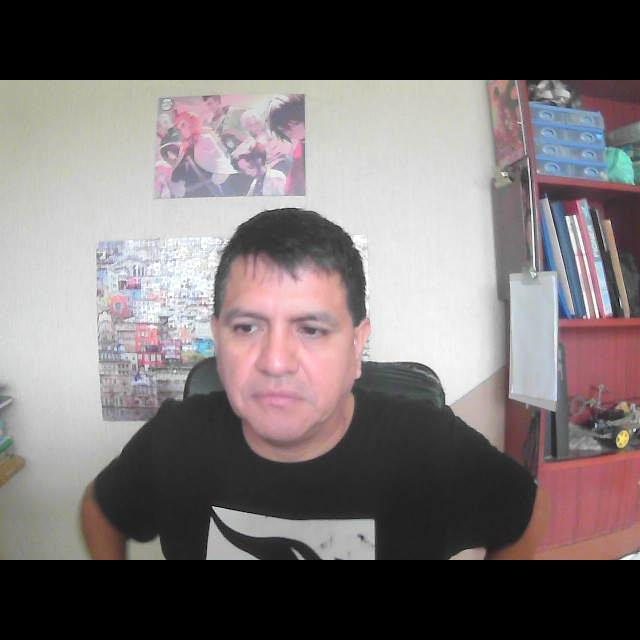cesar: (199, 197, 383, 461)
